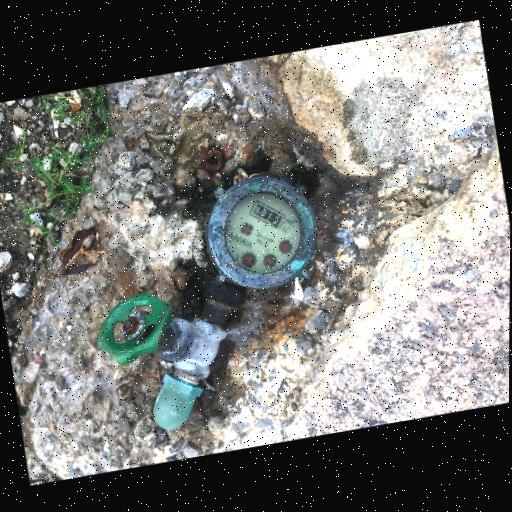1: (263, 208, 277, 224)
3: (269, 211, 285, 228)
9: (257, 204, 271, 220), (251, 202, 264, 216)
border_water_meter_number: (246, 194, 290, 235)
